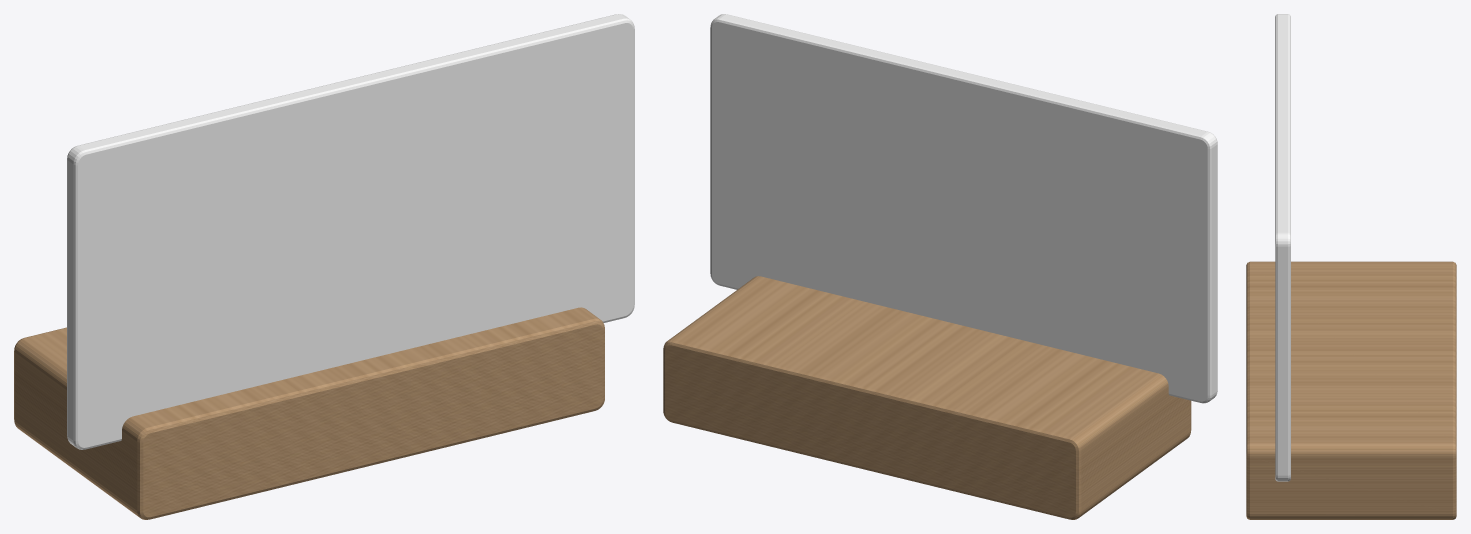
The picture shows the model from 3 angles, left to right: view 1: azimuth 30°, elevation 25°; view 2: azimuth 150°, elevation 25°; view 3: azimuth 270°, elevation 25°; orthographic projection. The views are drawn at different scales.
Visible parts, largest first — view 1: Namensplakette im Sockel, Holzsockel; view 2: Namensplakette im Sockel, Holzsockel; view 3: Holzsockel, Namensplakette im Sockel.
Part boxes in pixels (x1,y1,x2,y2): Namensplakette im Sockel: (67,14,634,449); Holzsockel: (14,307,604,519); Namensplakette im Sockel: (710,14,1217,403); Holzsockel: (663,276,1191,519); Holzsockel: (1246,261,1456,519); Namensplakette im Sockel: (1275,14,1290,481).
Bounding box in the file's own units: 0.102 × 0.064 × 0.04.
Materials: 2 (1 with a texture image).
